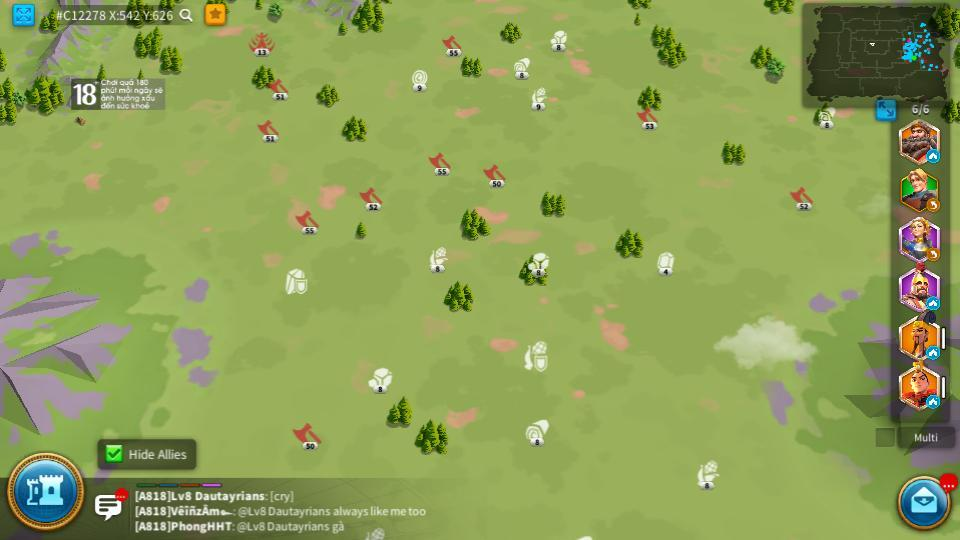gem-z-out: (656, 252, 675, 274), (364, 528, 384, 539), (575, 536, 596, 539)
march_idle: (926, 396, 940, 407), (926, 151, 940, 162), (927, 347, 940, 358), (925, 297, 938, 307)
march_returning: (926, 248, 941, 261), (927, 201, 940, 211)
